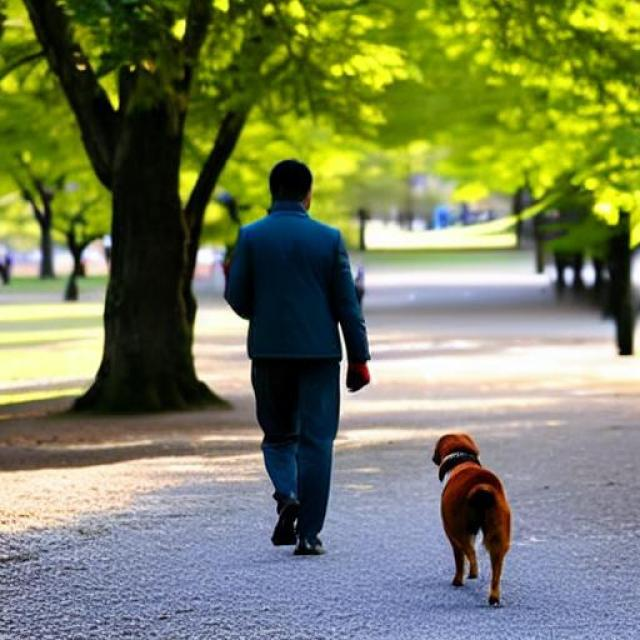Unleashed_Dog: (250, 358, 512, 606)
